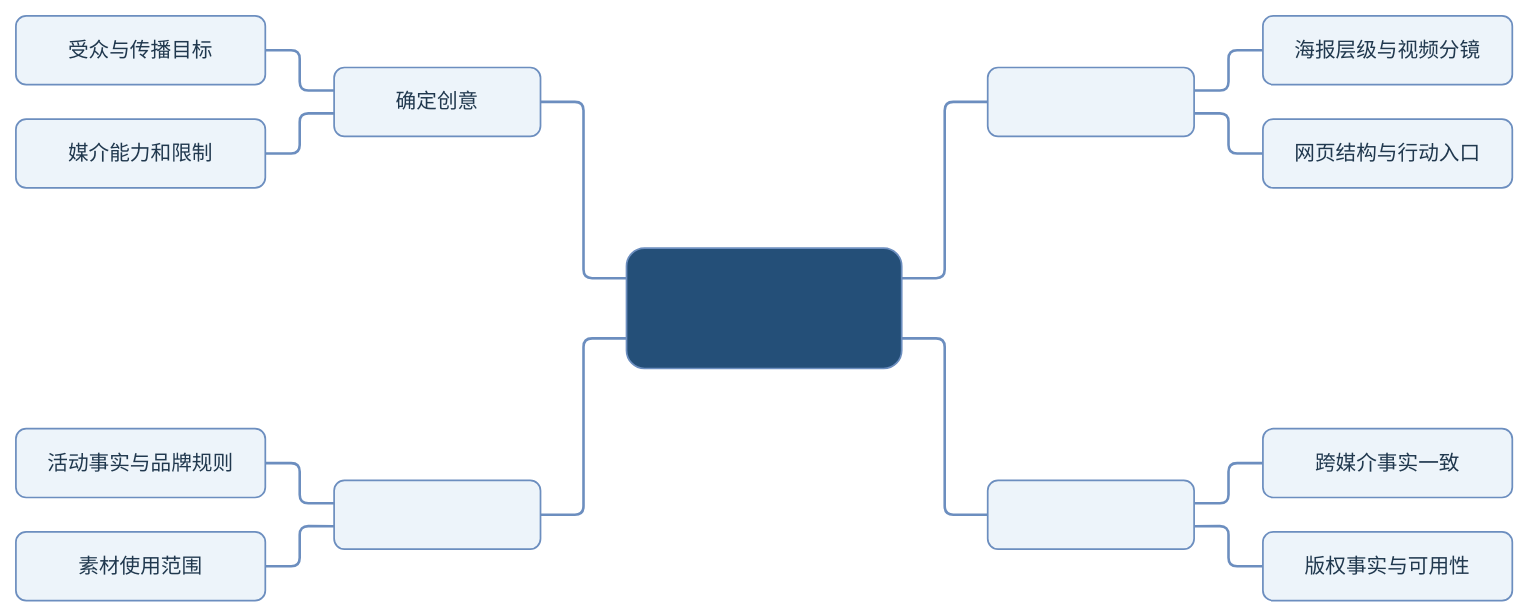
Some shapes in this 1527 by 616 pixel diagram are drawn without their labels. Here are the shapes that lost their labels. From the top down, the centre of each, then its label:
point (1090, 101): 组织表达
point (763, 308): 第10章 创意内容生成
point (437, 514): 准备底稿
point (1090, 514): 检查交付
